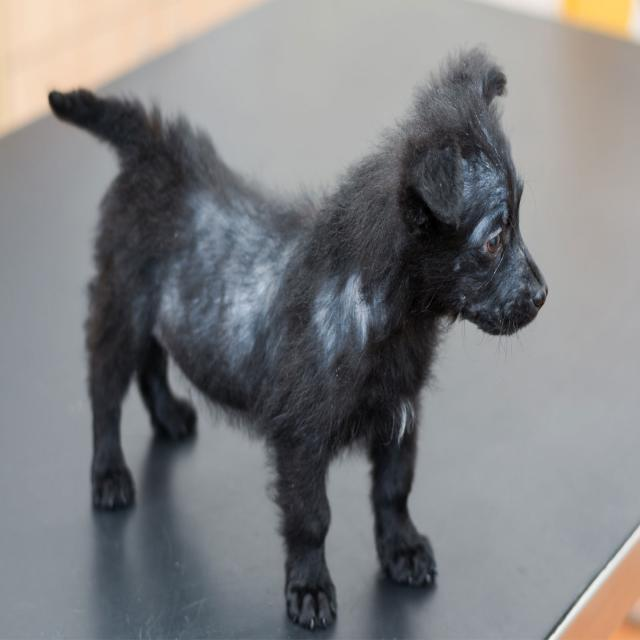mange: (153, 246, 224, 360), (304, 257, 374, 367), (188, 186, 242, 274), (224, 230, 280, 314), (219, 285, 259, 362), (391, 392, 417, 446)
